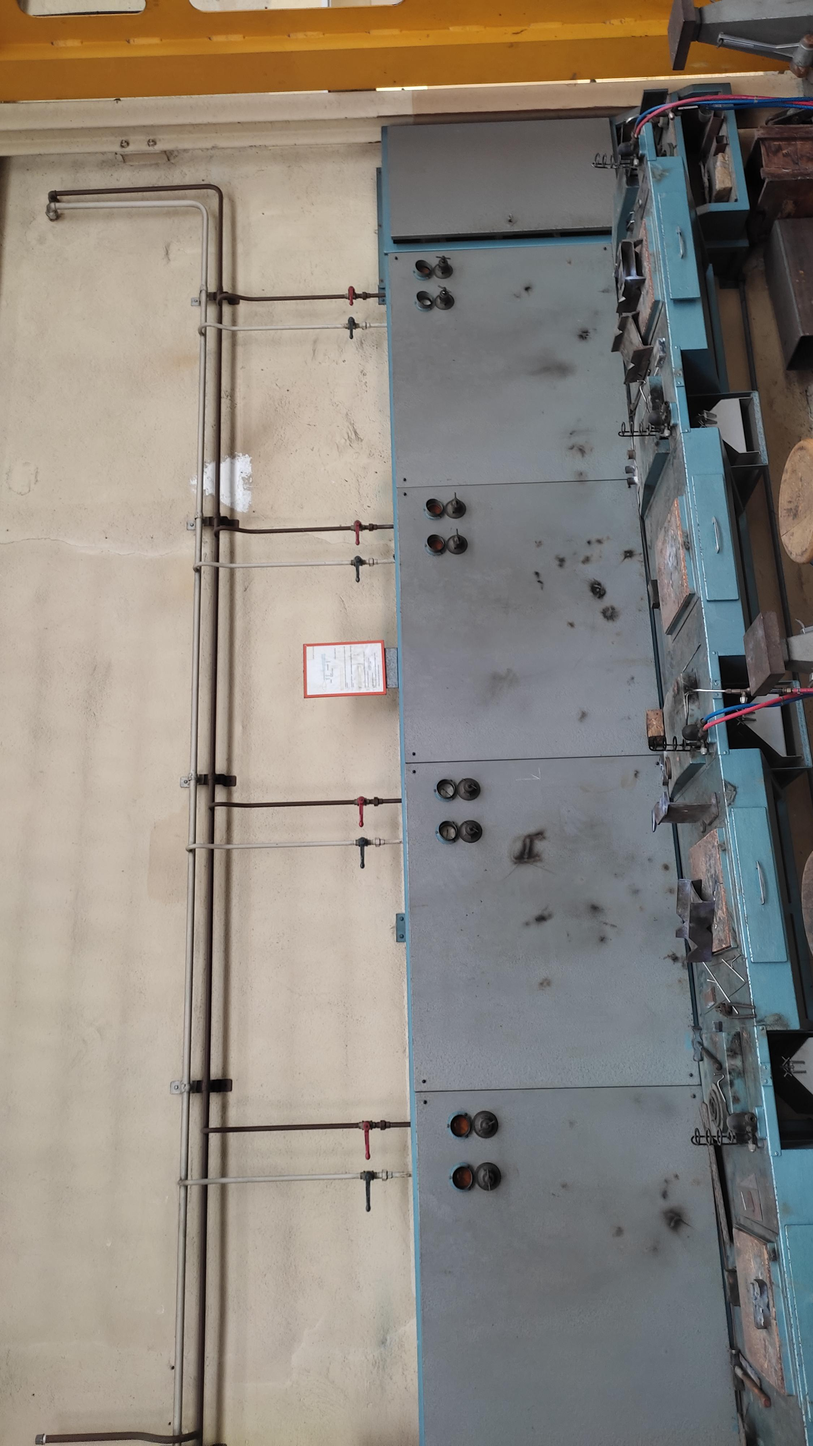closed valve: (358, 1119, 377, 1160), (360, 1170, 377, 1212), (353, 795, 370, 828), (355, 836, 371, 869), (351, 555, 366, 583), (350, 520, 365, 546), (346, 316, 358, 339), (346, 285, 358, 306)
